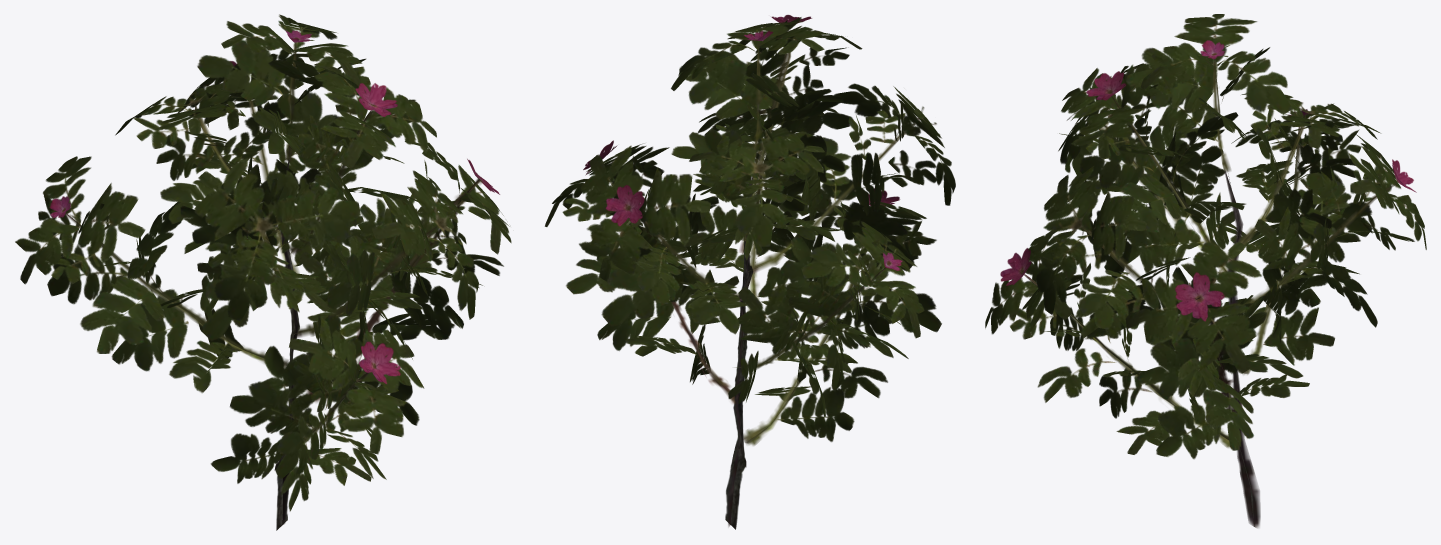
Rendered from veg-80.glb.
3 views of the same model, side by side, from view 1: azimuth 30°, elevation 25°; view 2: azimuth 150°, elevation 25°; view 3: azimuth 270°, elevation 25° (orthographic). The views are drawn at different scales.
Visible parts, largest first — view 1: _9oos_VarA_LOD3_80; view 2: _9oos_VarA_LOD3_80; view 3: _9oos_VarA_LOD3_80.
Boxes of the visible parts, x1=… form: _9oos_VarA_LOD3_80: x1=15, y1=14, x2=511, y2=530; _9oos_VarA_LOD3_80: x1=545, y1=15, x2=955, y2=529; _9oos_VarA_LOD3_80: x1=985, y1=14, x2=1426, y2=527.
Size of the model in its own units: 0.7241 by 0.8338 by 0.6857.
1 material, 1 textured.
